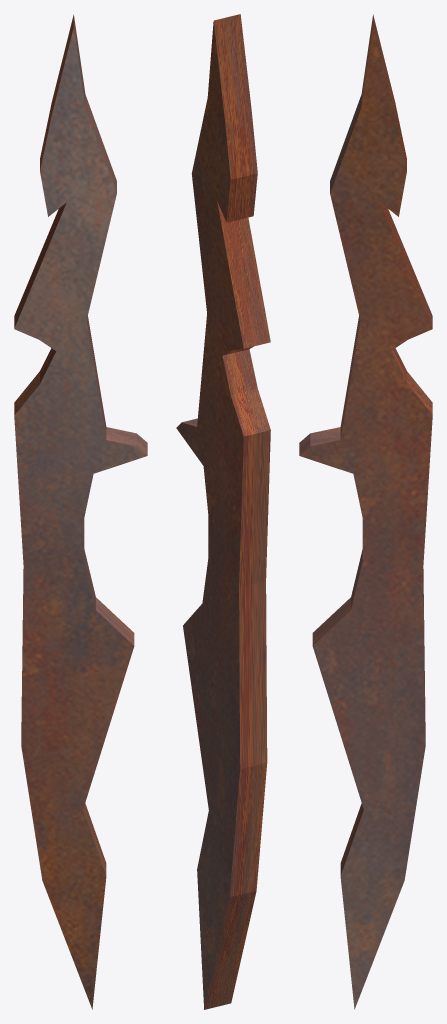
The model's file is Arrow.fbx.
The picture shows the model from 3 angles, left to right: view 1: azimuth 90°, elevation 25°; view 2: azimuth 210°, elevation 25°; view 3: azimuth 270°, elevation 25°; orthographic projection.
Visible parts, largest first — view 1: Cube; view 2: Cube; view 3: Cube.
Boxes of the visible parts, x1=… form: Cube: x1=14, y1=14, x2=147, y2=1009; Cube: x1=176, y1=14, x2=270, y2=1009; Cube: x1=299, y1=14, x2=432, y2=1009.
Size of the model in its own units: 9.18 by 323 by 39.74.
